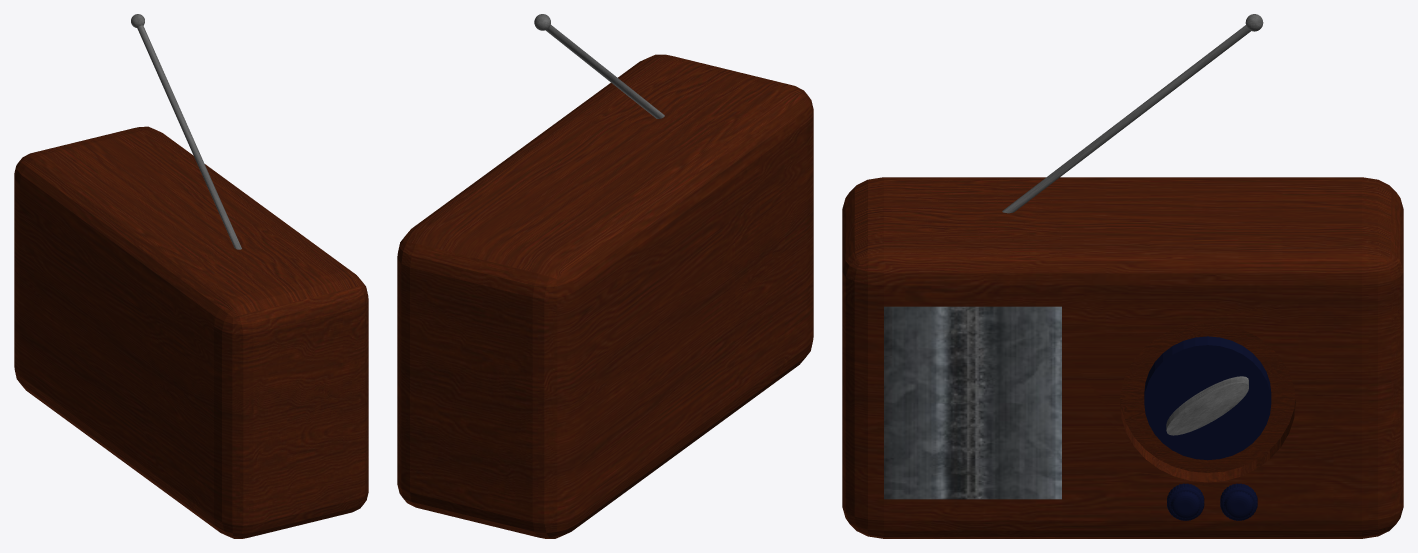
File: Radio.fbx
3 views of the same model, side by side, from view 1: azimuth 30°, elevation 25°; view 2: azimuth 150°, elevation 25°; view 3: azimuth 270°, elevation 25° (orthographic). The views are drawn at different scales.
Visible parts, largest first — view 1: Cube, Cylinder.004; view 2: Cube, Cylinder.004; view 3: Cube, Cube.001, Cylinder, Cylinder.004, Cylinder.001, Cylinder.002, Cylinder.003.
Part boxes in pixels (bbox=[...]): Cube: bbox=[14, 126, 368, 538]; Cylinder.004: bbox=[137, 25, 241, 249]; Cube: bbox=[397, 54, 813, 538]; Cylinder.004: bbox=[545, 25, 664, 118]; Cube: bbox=[842, 177, 1403, 538]; Cube.001: bbox=[884, 306, 1061, 499]; Cylinder: bbox=[1144, 336, 1271, 460]; Cylinder.004: bbox=[1002, 25, 1250, 213]; Cylinder.001: bbox=[1166, 376, 1248, 435]; Cylinder.002: bbox=[1167, 483, 1204, 520]; Cylinder.003: bbox=[1220, 483, 1257, 520].
Bounding box in the file's own units: 106 × 251 × 261.
Materials: 4 (4 with a texture image).
